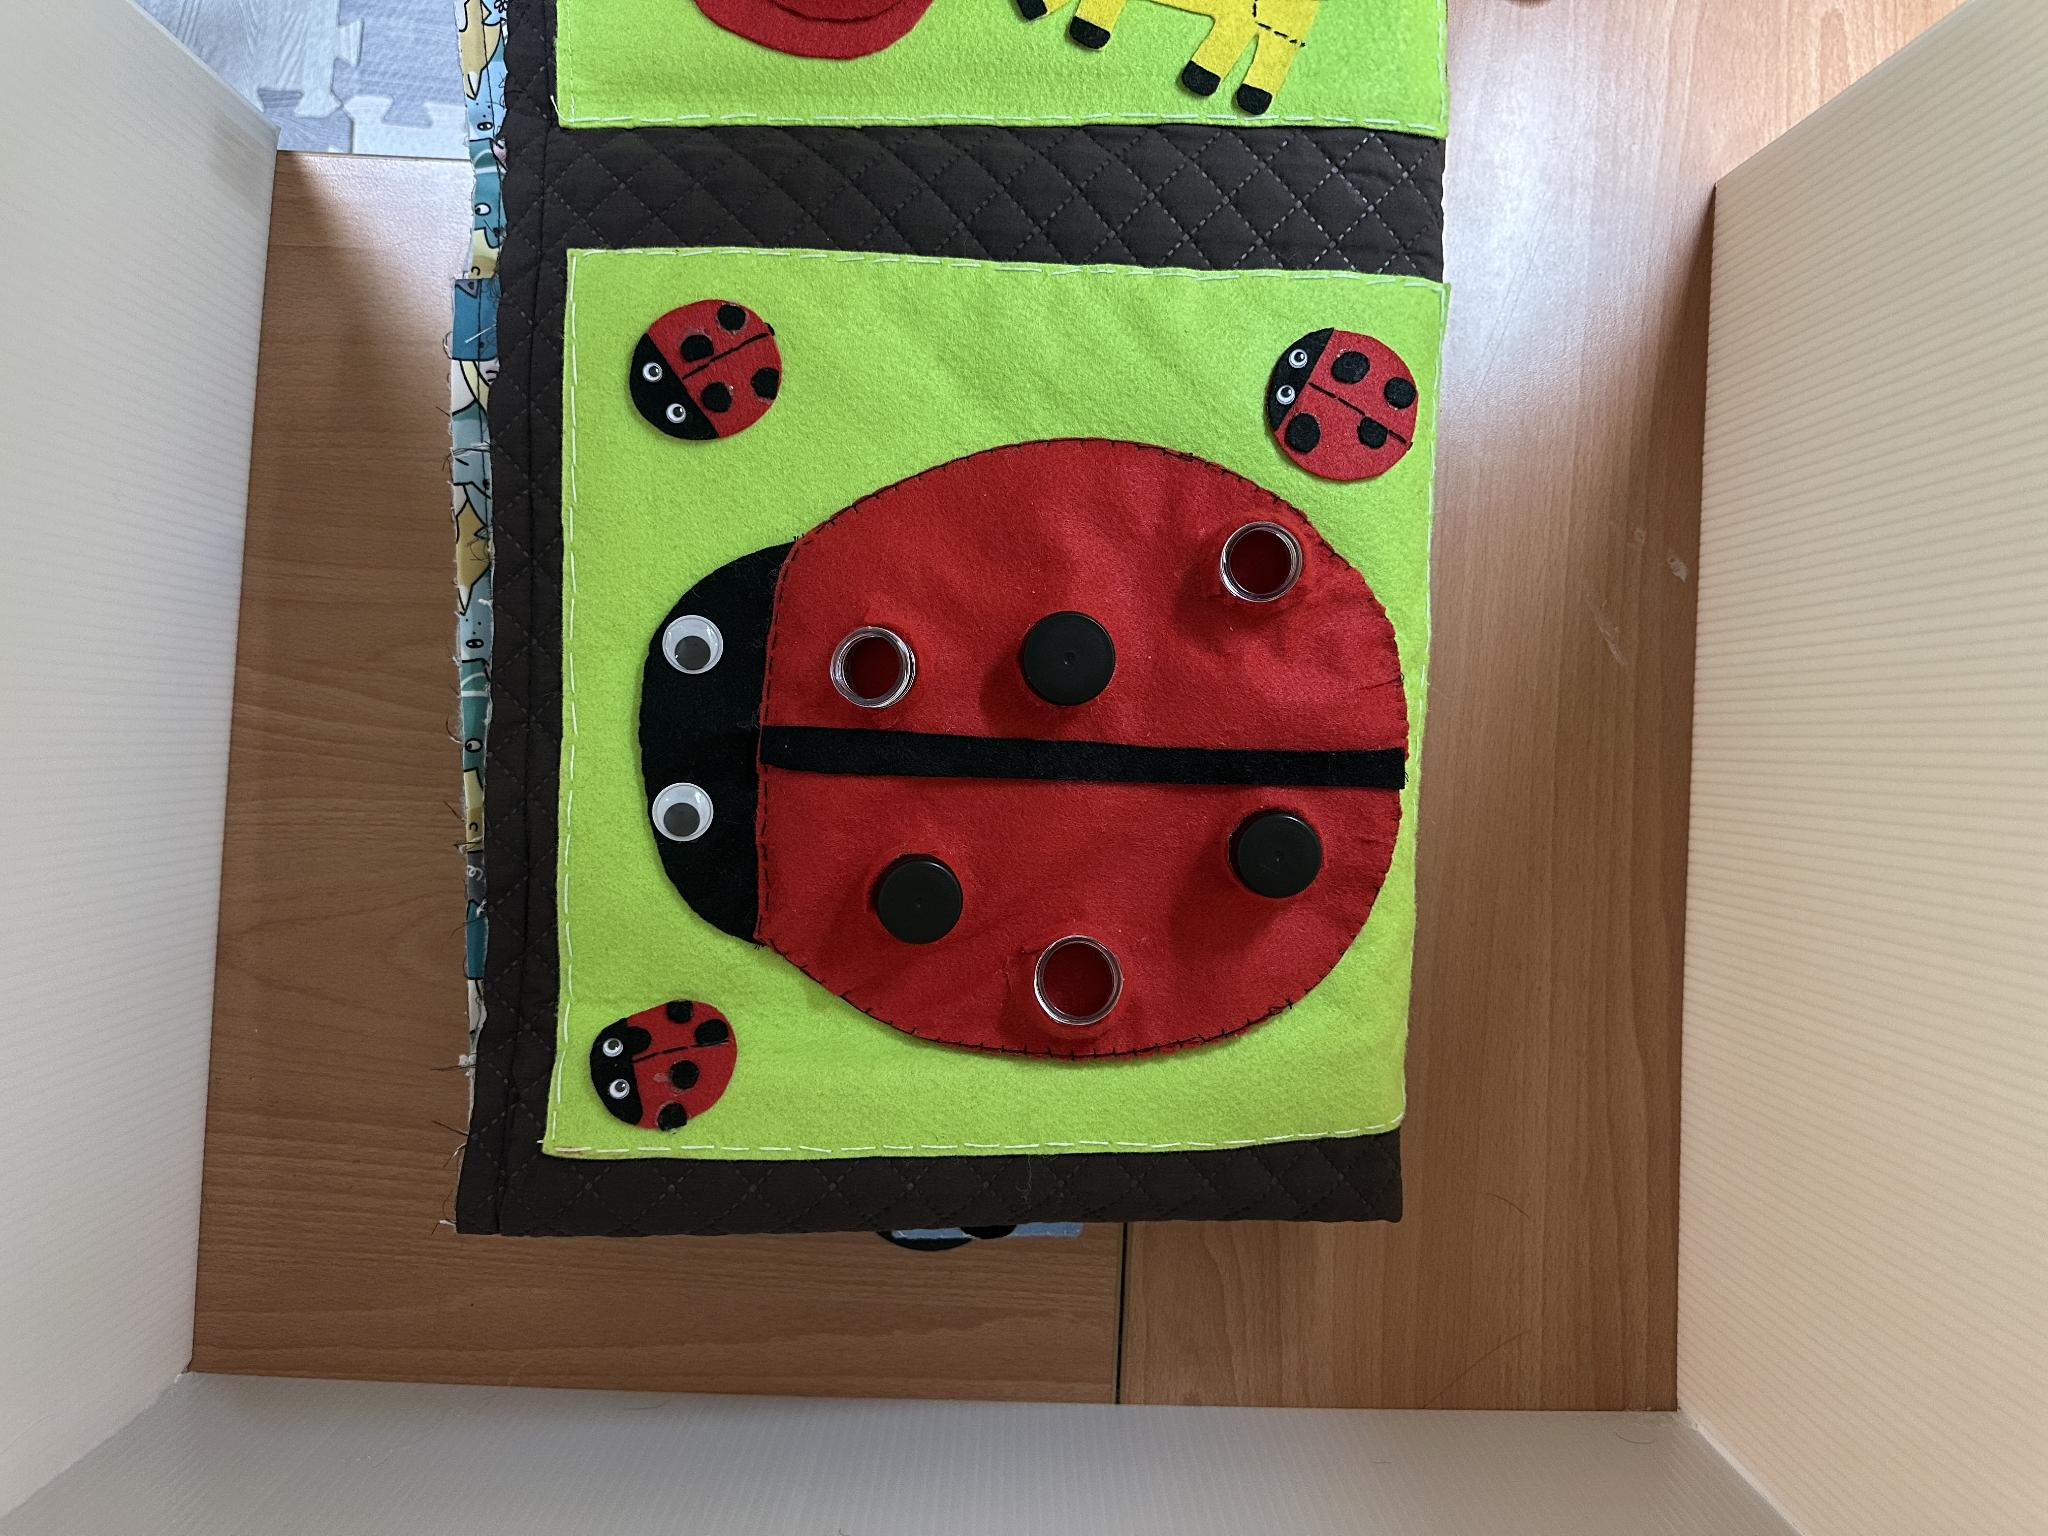cap_ok: (1192, 781, 1371, 923), (845, 836, 998, 963), (1001, 595, 1138, 720)
